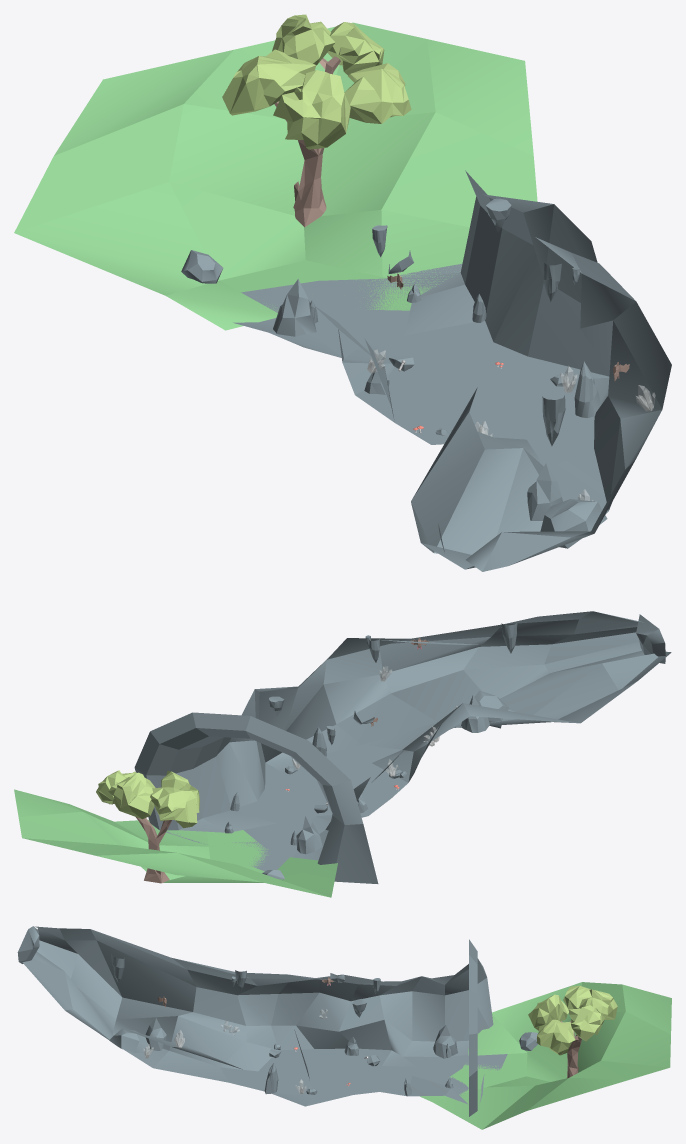
Rendered from room.glb.
The picture shows the model from 3 angles, top to bottom: view 1: azimuth 30°, elevation 25°; view 2: azimuth 150°, elevation 25°; view 3: azimuth 270°, elevation 25°; orthographic projection. The views are drawn at different scales.
Parts seen in each view (by area): view 1: mesh96187052; view 2: mesh96187052; view 3: mesh96187052.
Part boxes in pixels (box(x1,y1,x2,y2)): mesh96187052: box(14, 14, 671, 571); mesh96187052: box(14, 611, 671, 897); mesh96187052: box(17, 926, 671, 1129).
Bounding box in the file's own units: 24.43 × 8.66 × 43.56.
